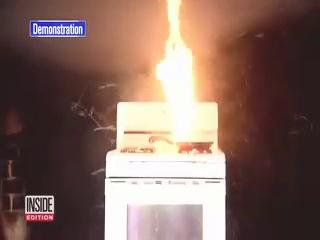Fire: (146, 1, 204, 145)
